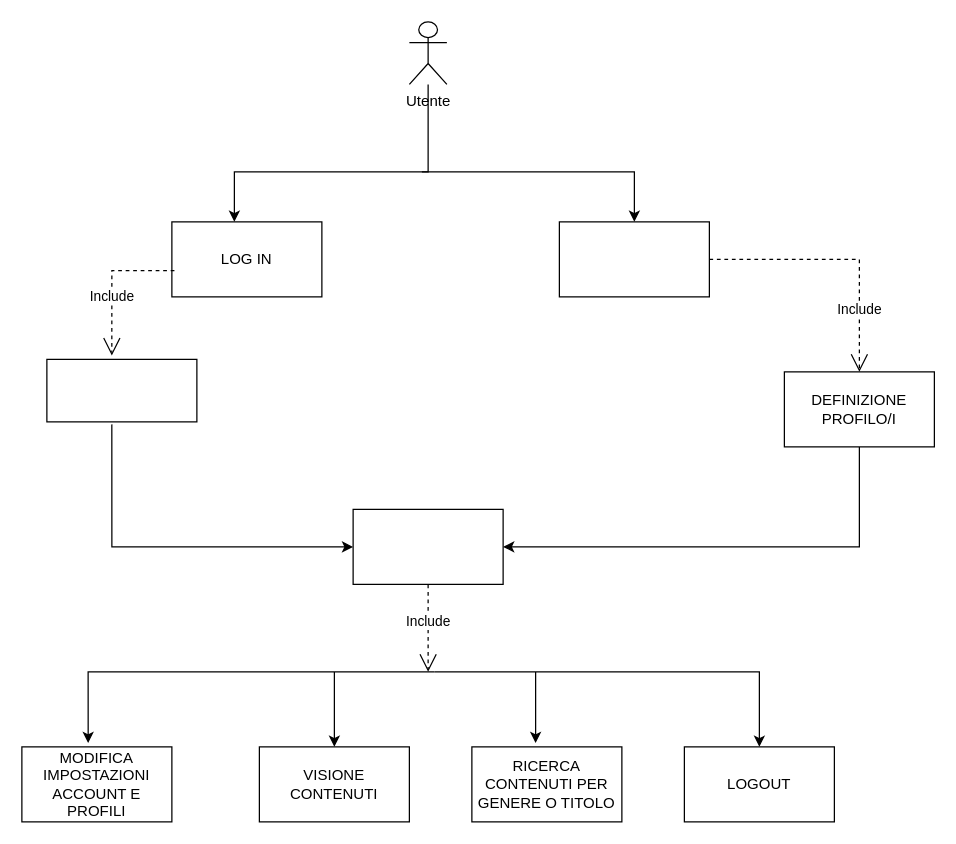
Image size: 956x844. Some labels were removed from this diagram. The shapes that lost their labels are listed below. From the top down, each one's box as (x1, y1, x2, y2) in pixels, then its label:
(558, 221, 709, 297): REGISTRAZIONE + PAGAMENTO
(46, 358, 197, 422): SCELTA DEL PROFILO CON CUI ACCEDERE
(352, 508, 503, 584): VISUALIZZAZIONE CATALOGO IN BASE ALLE PREFERENZE
